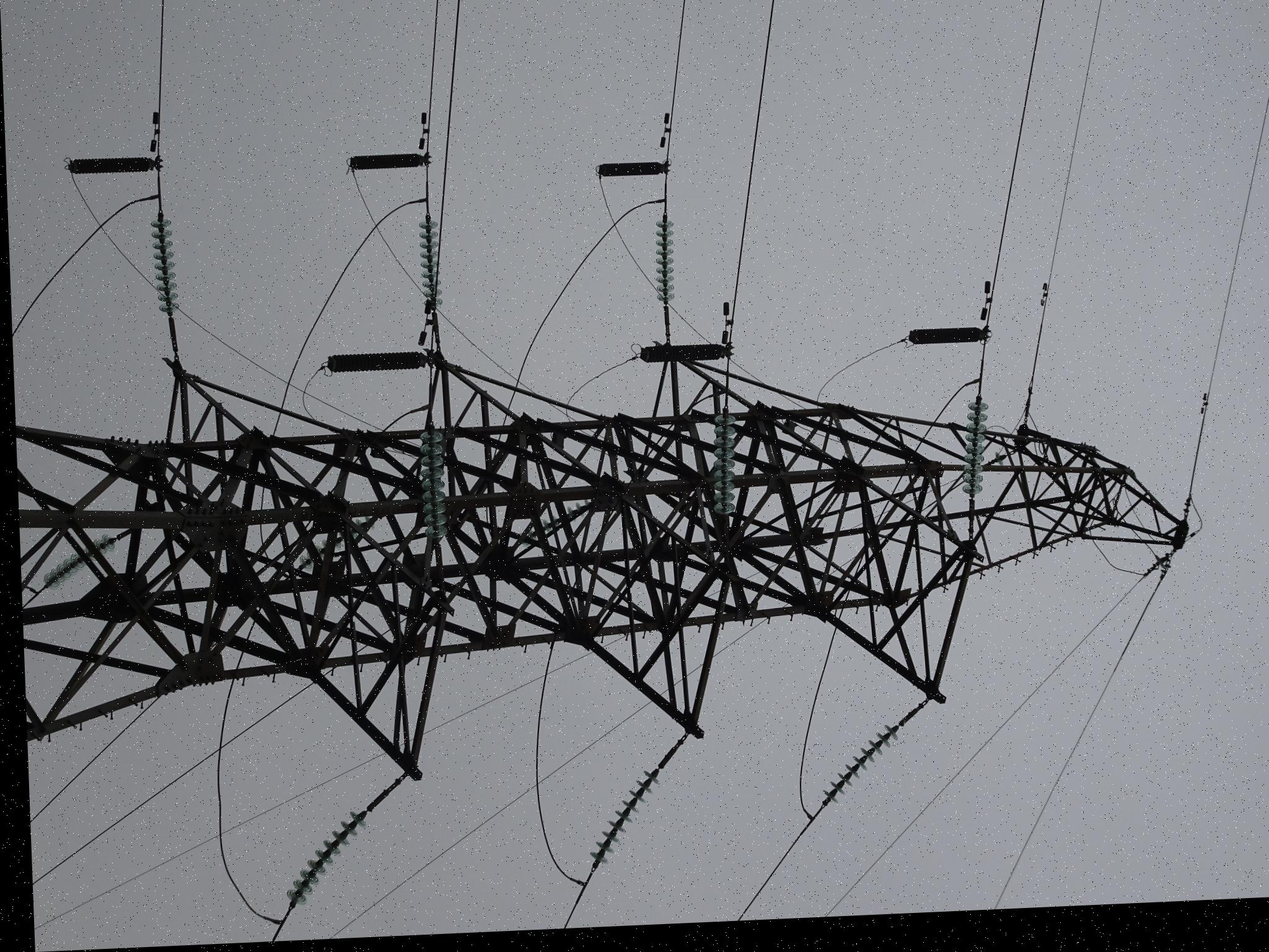tower: (362, 29, 845, 936)
